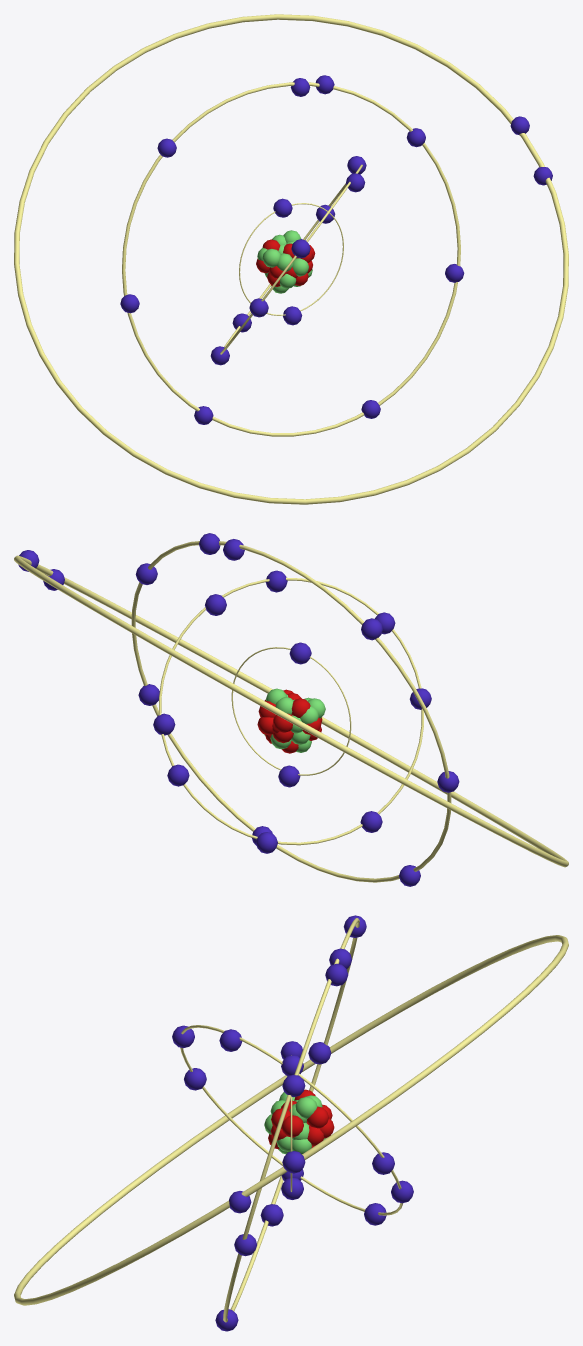
The model's file is calcium.fbx.
3 views of the same model, one above another, from view 1: azimuth 30°, elevation 25°; view 2: azimuth 150°, elevation 25°; view 3: azimuth 270°, elevation 25° (orthographic). The views are drawn at different scales.
Visible parts, largest first — view 1: BezierCircle_Mesh, Electrons_Icosphere.060, Neutrons_Icosphere.039, Protons_Icosphere.040; view 2: BezierCircle_Mesh, Electrons_Icosphere.060, Protons_Icosphere.040, Neutrons_Icosphere.039; view 3: BezierCircle_Mesh, Electrons_Icosphere.060, Protons_Icosphere.040, Neutrons_Icosphere.039.
Part boxes in pixels (left/top/right/bottom): BezierCircle_Mesh: left=14, top=14, right=568, bottom=504; Electrons_Icosphere.060: left=120, top=75, right=552, bottom=424; Neutrons_Icosphere.039: left=257, top=230, right=312, bottom=293; Protons_Icosphere.040: left=256, top=239, right=315, bottom=286; BezierCircle_Mesh: left=14, top=541, right=568, bottom=882; Electrons_Icosphere.060: left=18, top=533, right=459, bottom=886; Protons_Icosphere.040: left=257, top=689, right=322, bottom=753; Neutrons_Icosphere.039: left=264, top=688, right=325, bottom=752; BezierCircle_Mesh: left=14, top=918, right=568, bottom=1322; Electrons_Icosphere.060: left=172, top=915, right=413, bottom=1331; Protons_Icosphere.040: left=268, top=1089, right=334, bottom=1149; Neutrons_Icosphere.039: left=264, top=1092, right=326, bottom=1154.
Bounding box in the file's own units: 0.5584 × 0.3564 × 0.4793.
